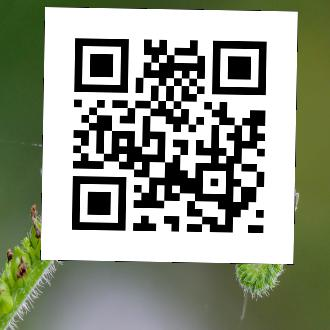qr_code: (40, 7, 297, 264)
